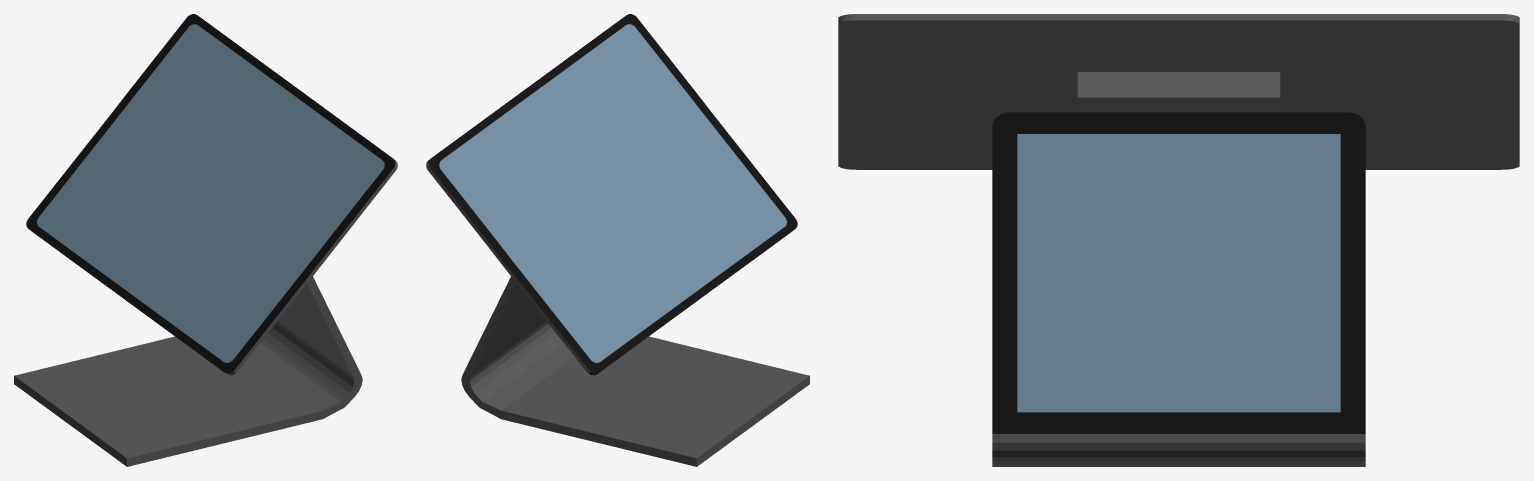
The model's file is pos-machine.glb.
The picture shows the model from 3 angles, left to right: view 1: azimuth 30°, elevation 25°; view 2: azimuth 150°, elevation 25°; view 3: azimuth 270°, elevation 25°; orthographic projection. The views are drawn at different scales.
Visible parts, largest first — view 1: Cube; view 2: Cube; view 3: Cube.
Boxes of the visible parts, x1,y1,x2,y2 form: Cube: [14, 14, 397, 466]; Cube: [426, 14, 809, 466]; Cube: [838, 14, 1519, 466].
Size of the model in its own units: 2.41 by 2.77 by 3.65.
Materials: 1 (1 with a texture image).
